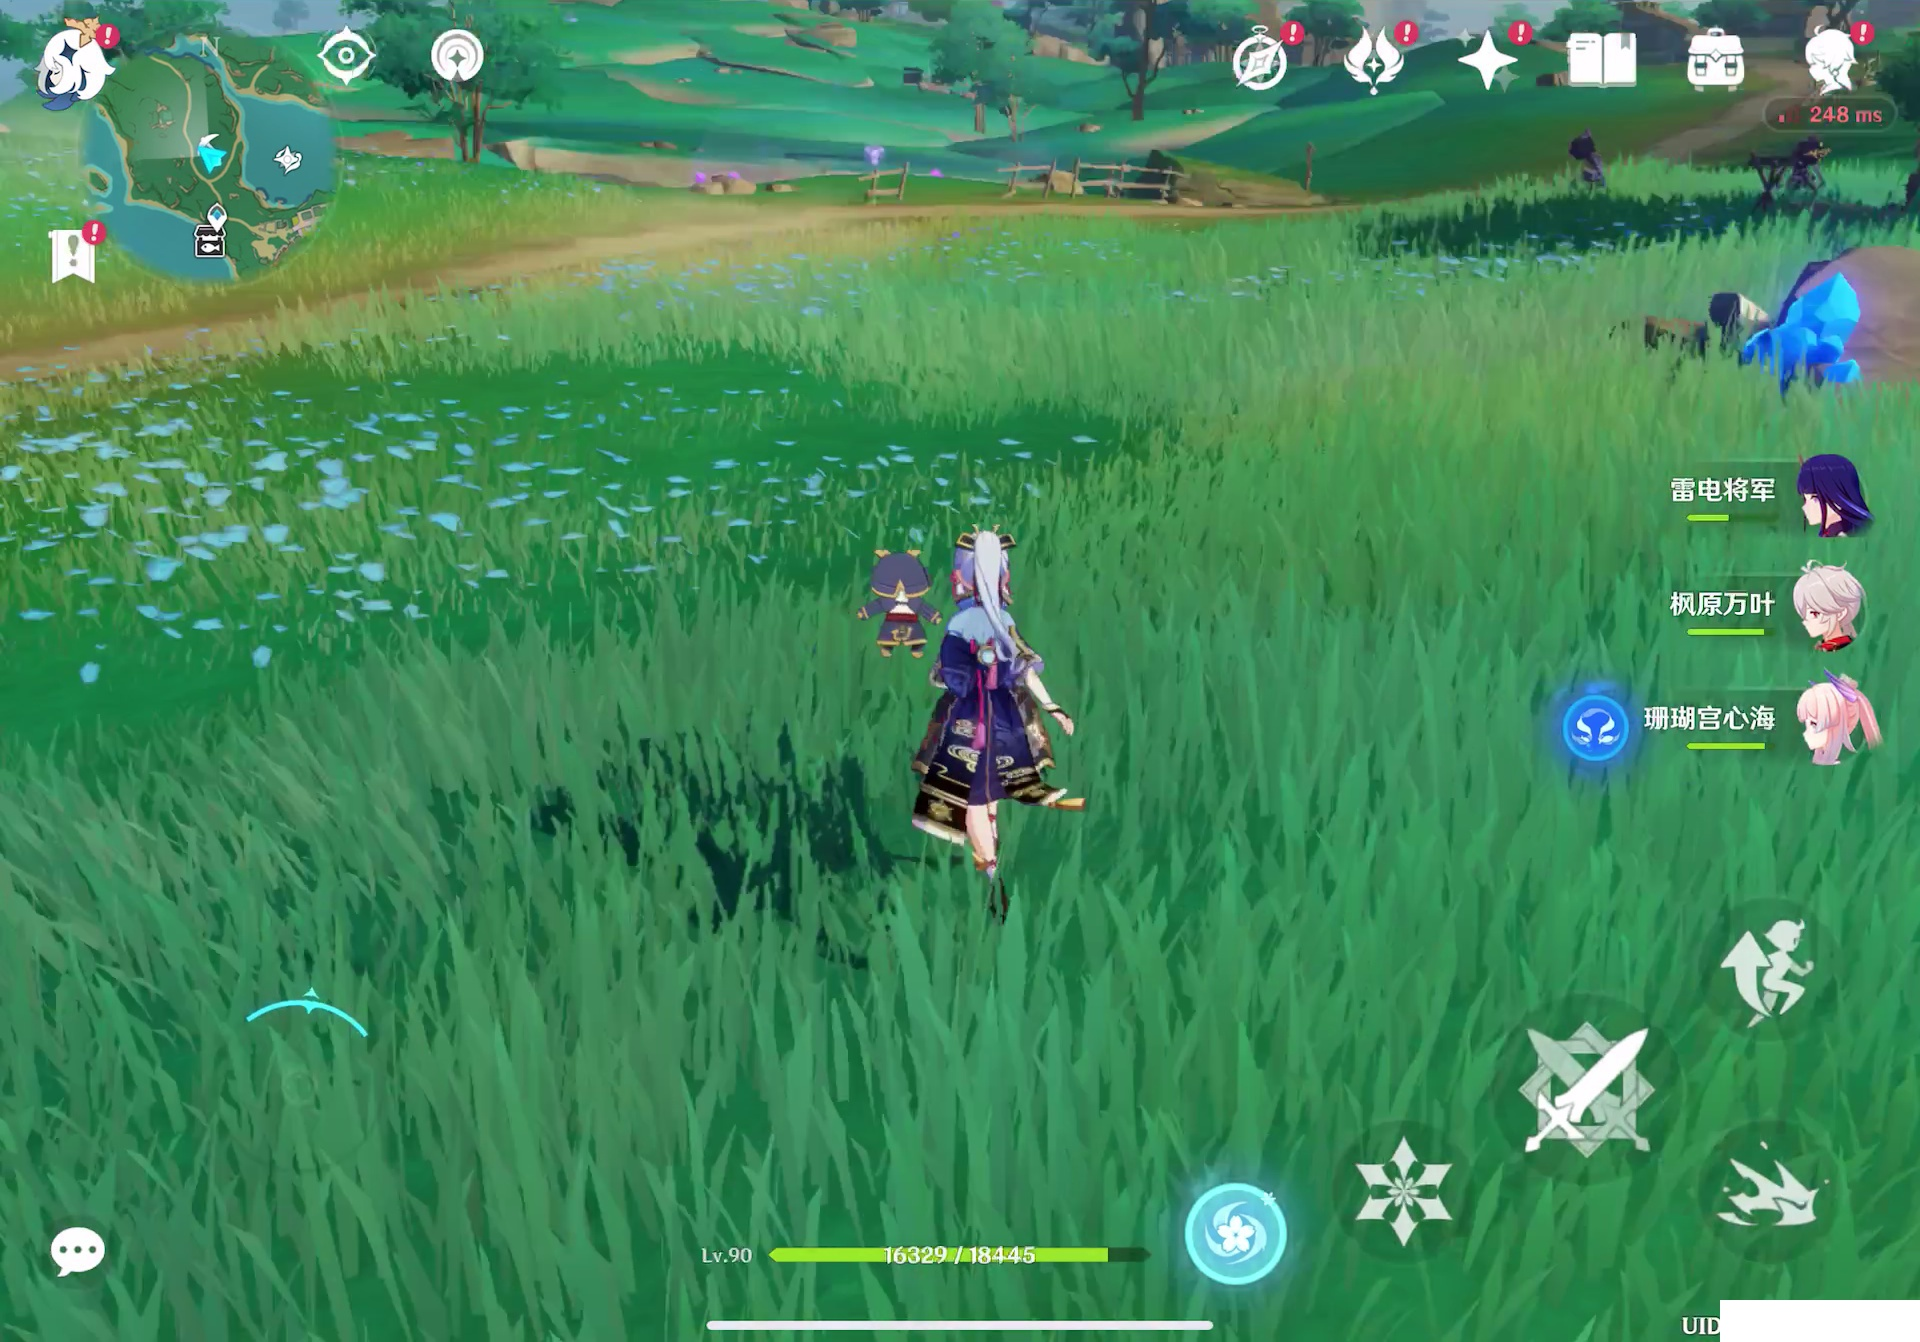丘丘人: (1557, 120, 1625, 204), (1789, 134, 1835, 210)
神里绫龟: (891, 513, 1085, 907)
蓝矿石: (1742, 268, 1873, 394)
